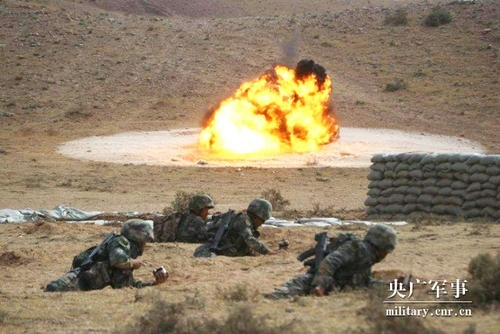fire: (192, 65, 340, 157)
